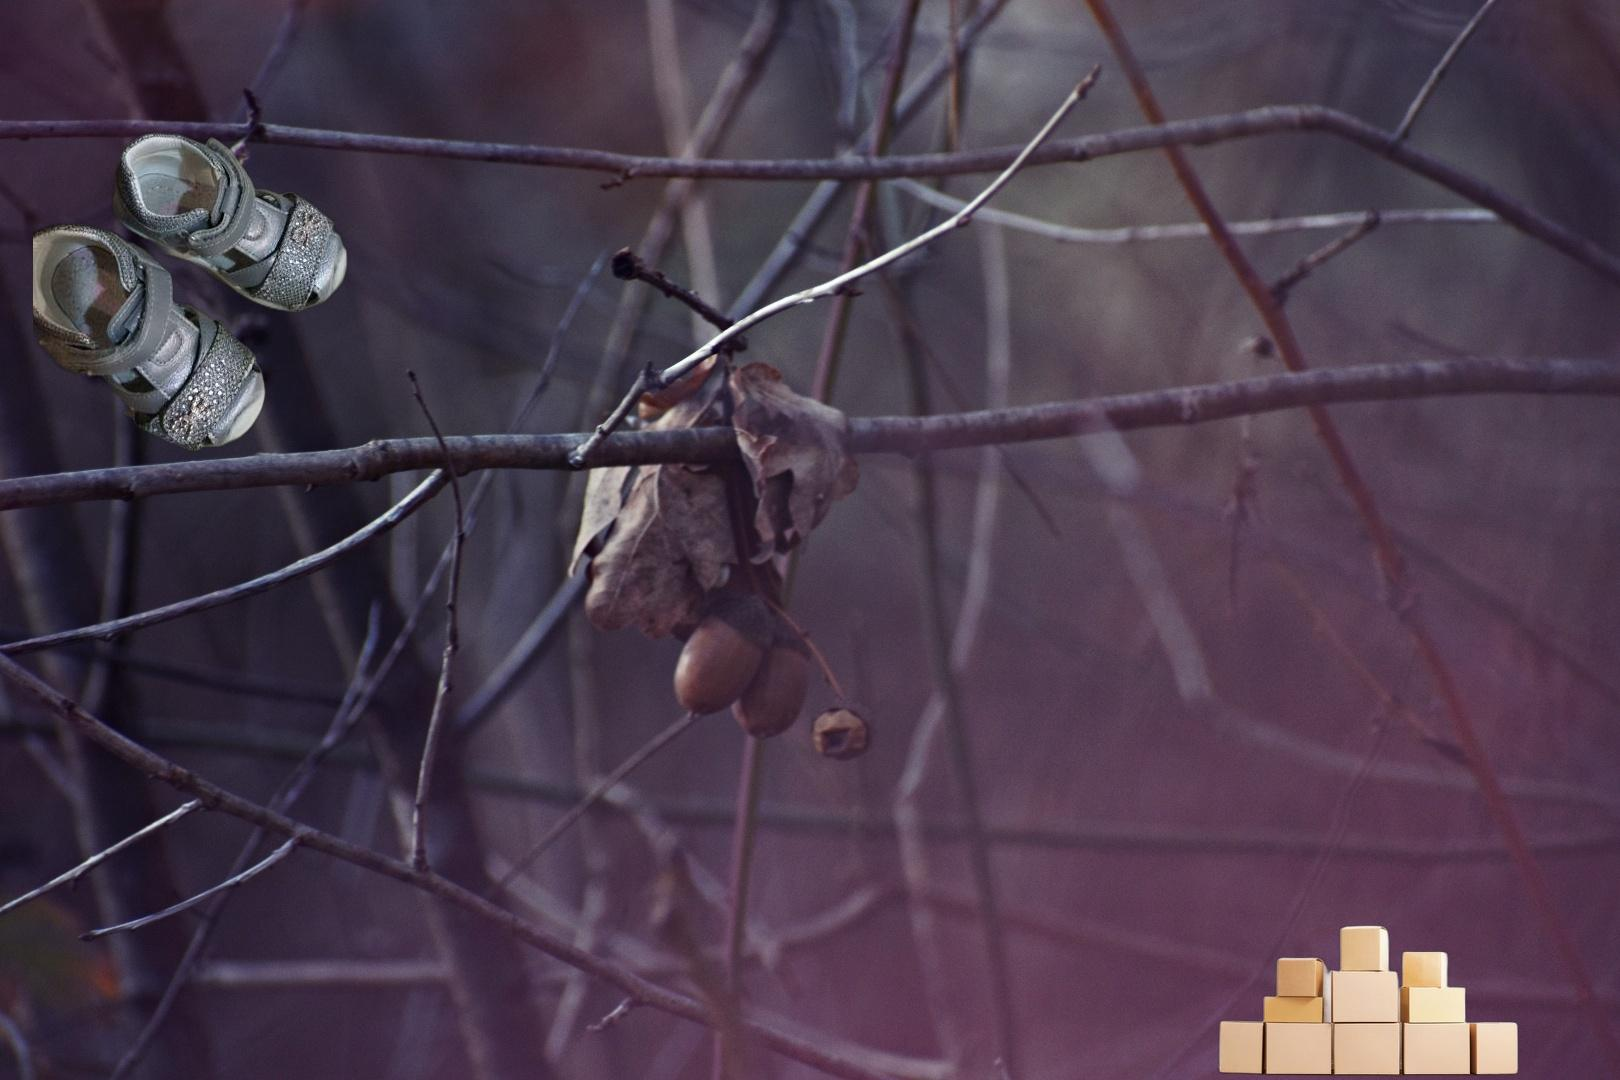shoes: (33, 129, 351, 456)
trashbox-cardboard: (1214, 922, 1522, 1080)
